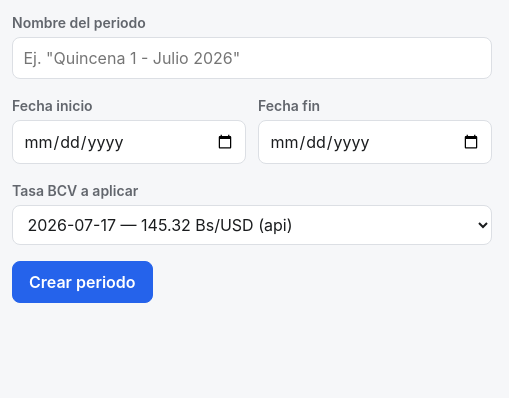
Test: PeriodoForm › rechaza una fecha de fin anterior a la fecha de inicio
The image size is (509, 398).
In the field labelled "Nombre del periodo": x=252, y=58 [12,37,492,79], type "Periodo inválido"
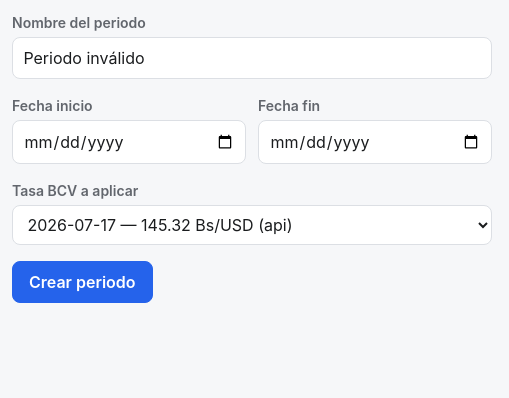
In the date field labelled "Fecha inicio": x=129, y=142 [12,120,246,164], type "2026-07-15"
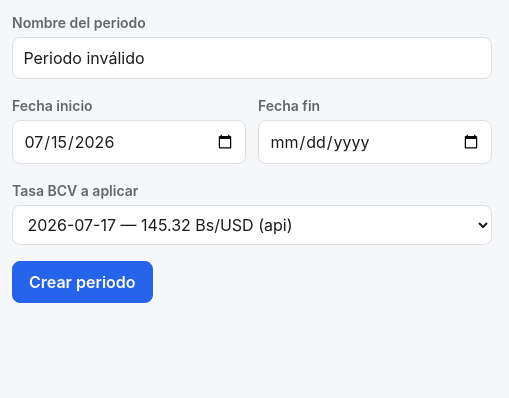
In the date field labelled "Fecha fin": x=375, y=142 [258,120,492,164], type "2026-07-01"
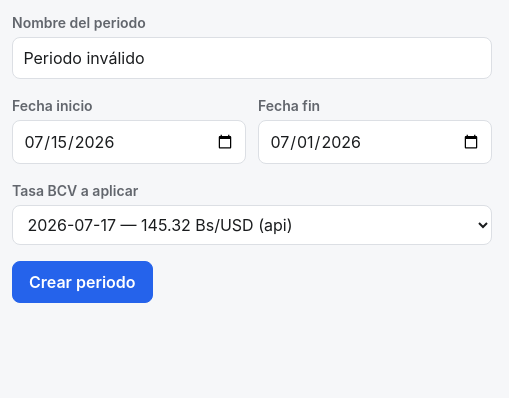
Select "2026-07-17 — 145.32 Bs/USD (api)" in the dropdown labelled "Tasa BCV a aplicar": x=252, y=225 [12,205,492,245]
Click the button "Crear periodo": x=82, y=282 [12,261,152,303]
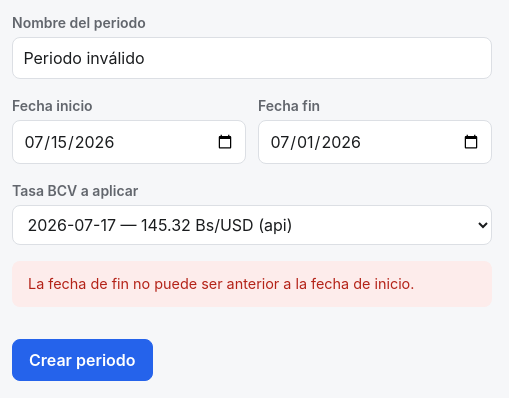
Check: the text "La fecha de fin no puede ser anterior a la fecha de inicio." is shown, box [12,261,492,307]
